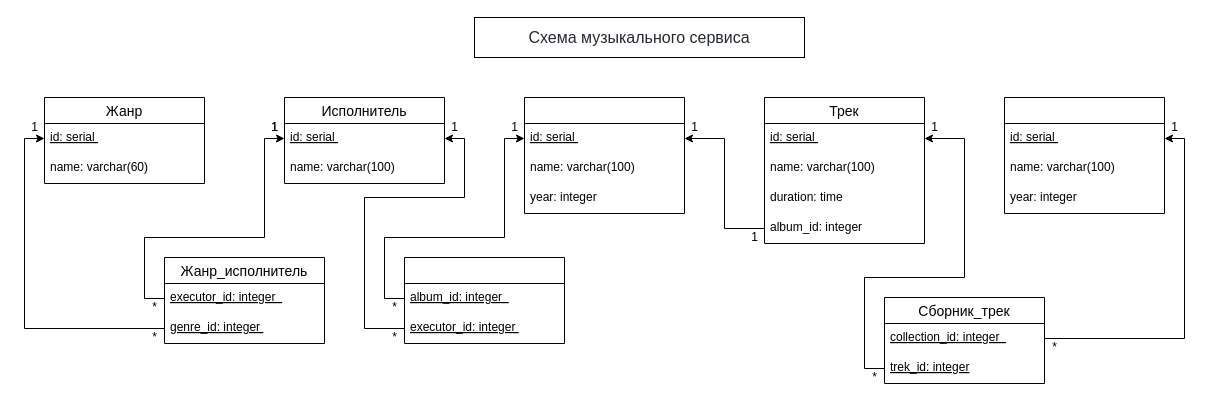
This 1210x405 diagram has some shape labels left out. The shapes that lost their labels are listed below. From the top down, each one's box as (x1, y1, x2, y2) in pixels, then its label:
(524, 96, 684, 214): Альбом
(1004, 96, 1164, 214): Сборник
(404, 256, 564, 344): Альбом_исполнитель
